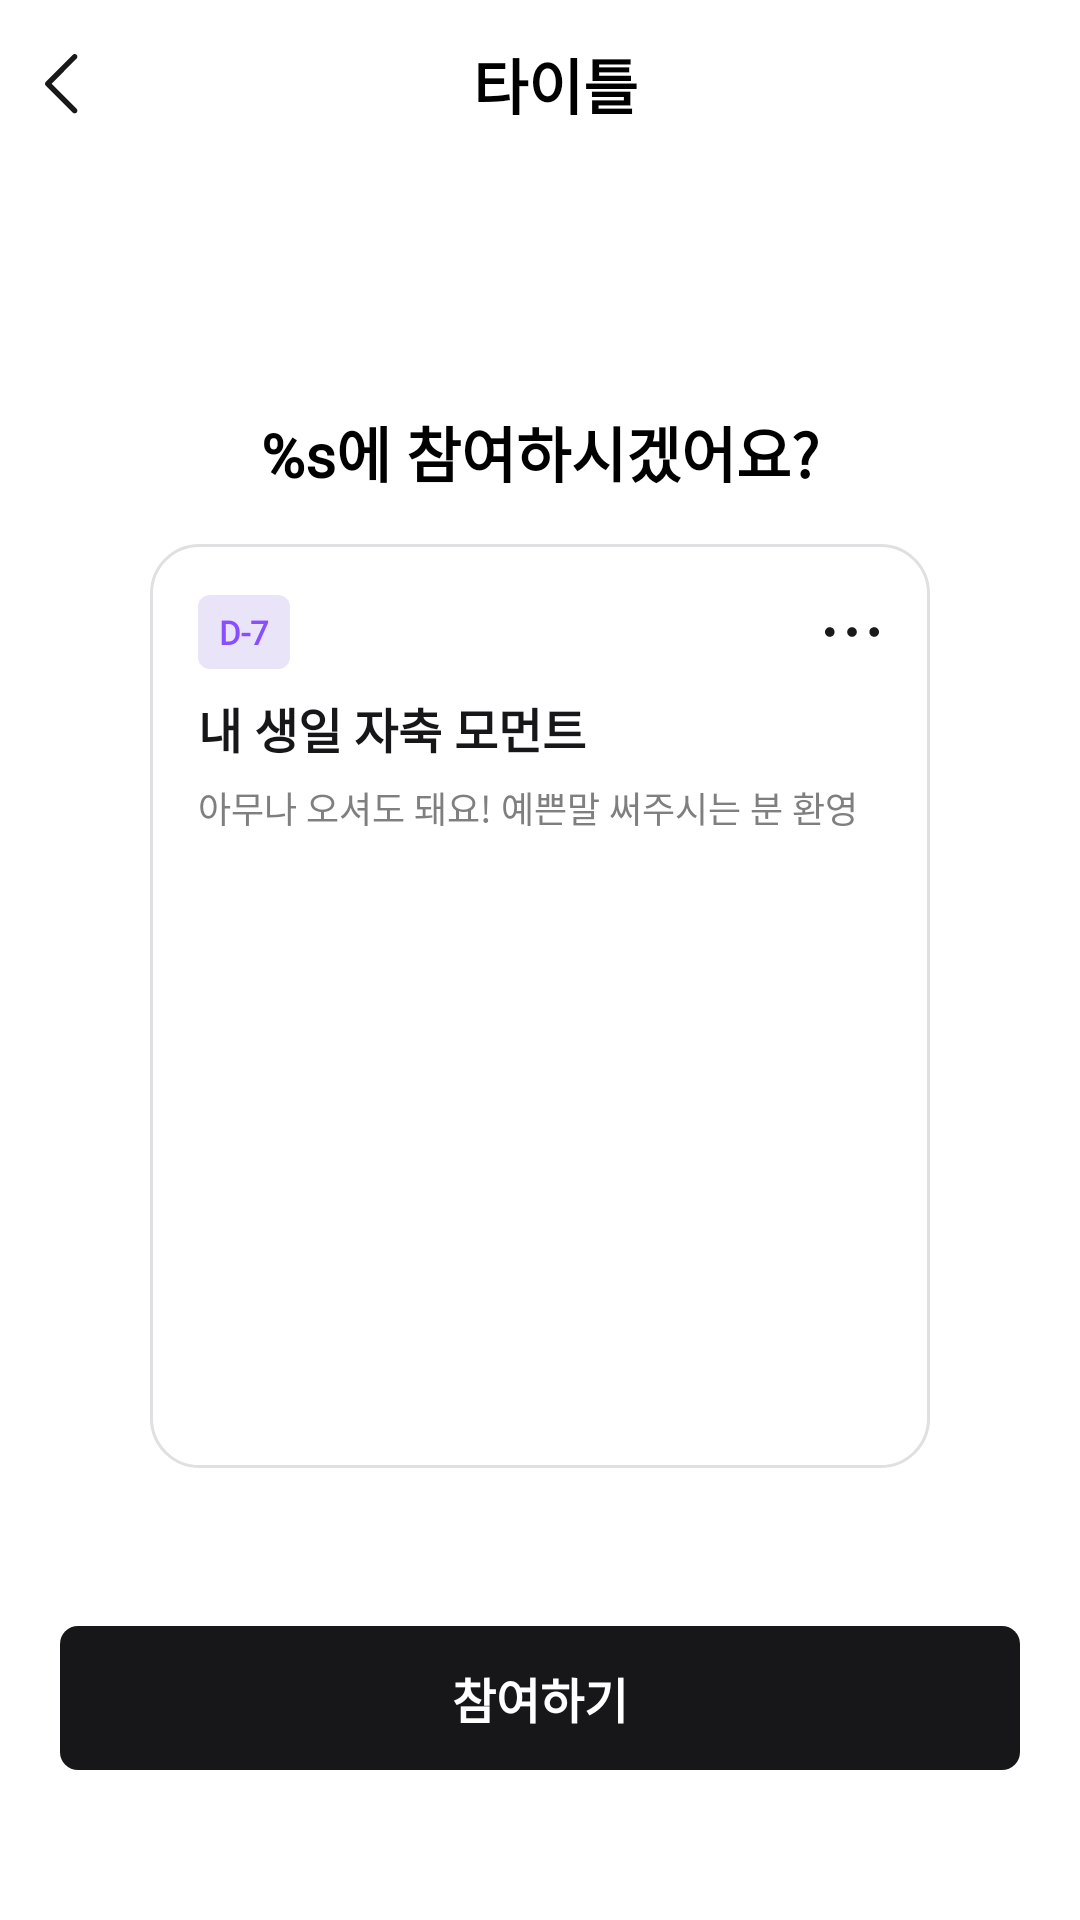

Icon bounding boxes for this 1080px×1920px phone screenshot, format {"left": x1, "top": y1, "right": x2, "bottom": y2}:
chevron left: {"left": 45, "top": 54, "right": 78, "bottom": 114}
horizontal dots: {"left": 825, "top": 627, "right": 879, "bottom": 637}
